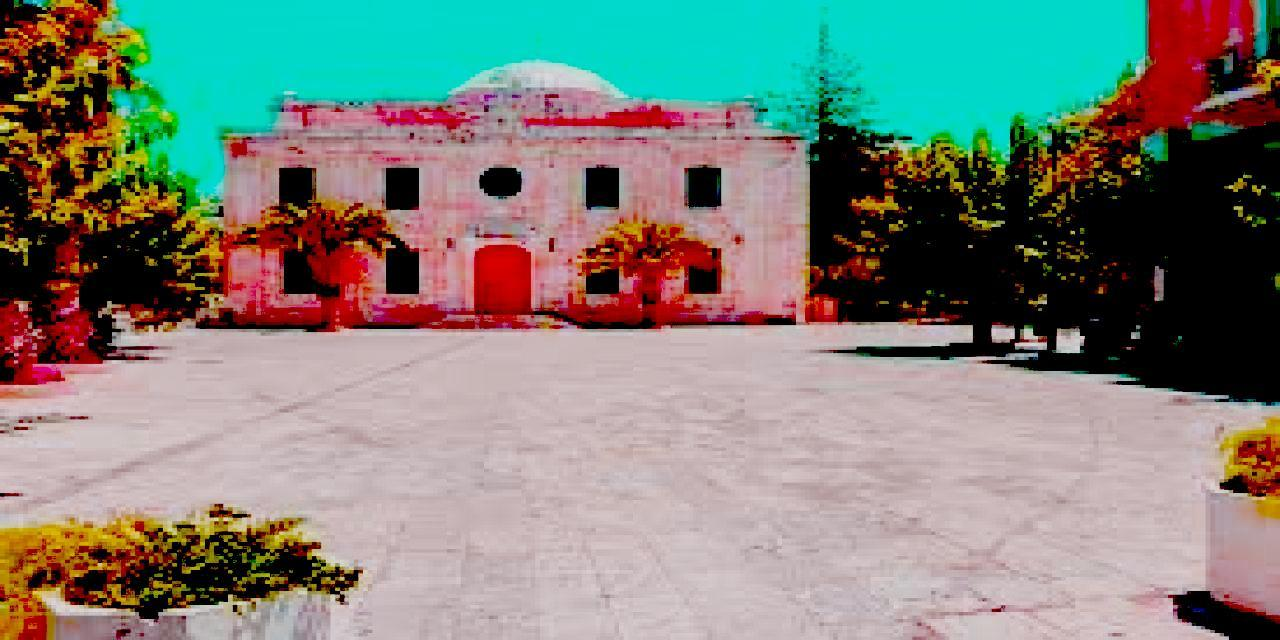Agios Titos: (208, 50, 817, 328)
